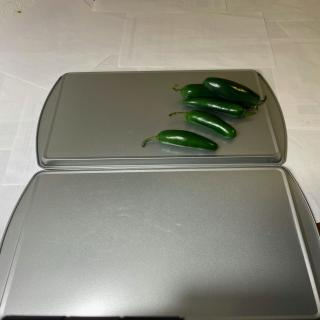Tomato: (168, 110, 237, 139), (202, 77, 266, 108), (142, 130, 218, 152), (183, 97, 258, 118), (172, 83, 222, 99)
